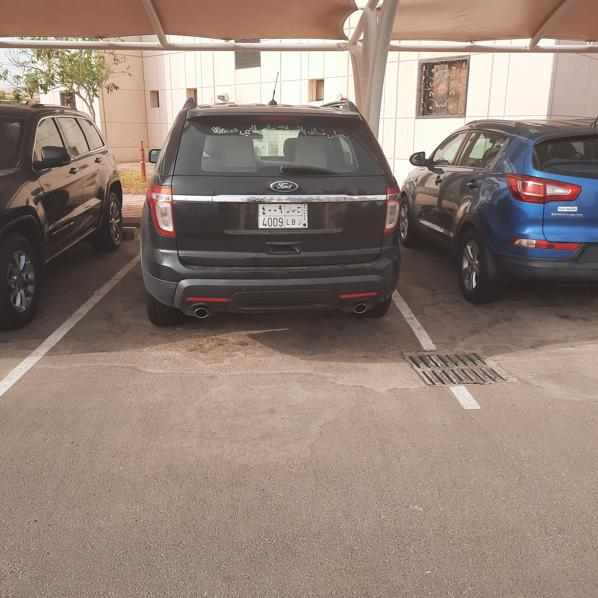numberplate: (258, 204, 307, 228)
